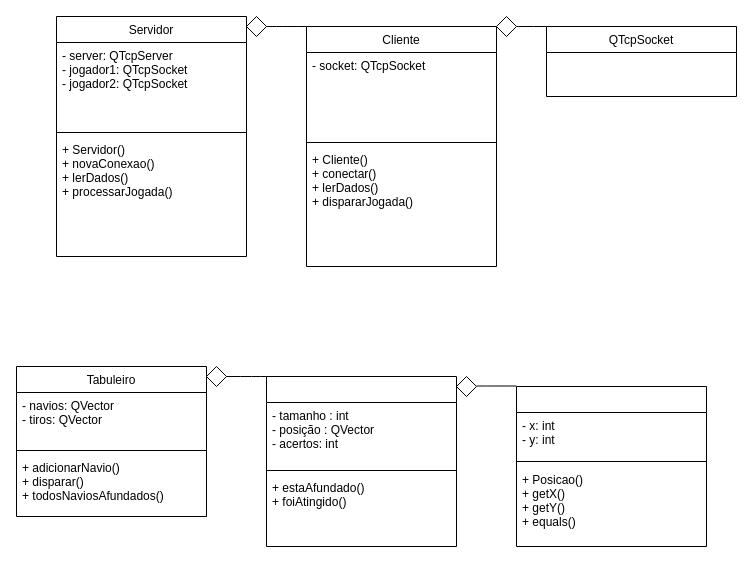
Image size: 753x563. Some labels were removed from this diagram. Each missing label, with the box of its shape:
Navio: (266, 376, 456, 546)
Posição: (516, 386, 706, 546)
